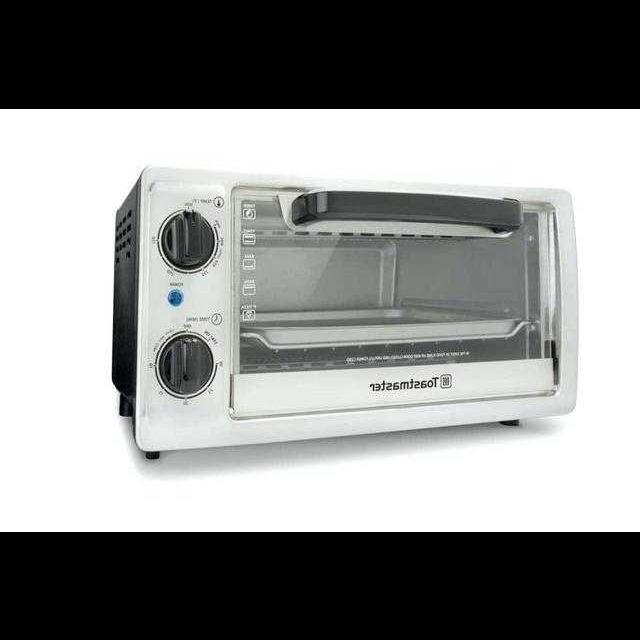Oven: (143, 166, 572, 440)
